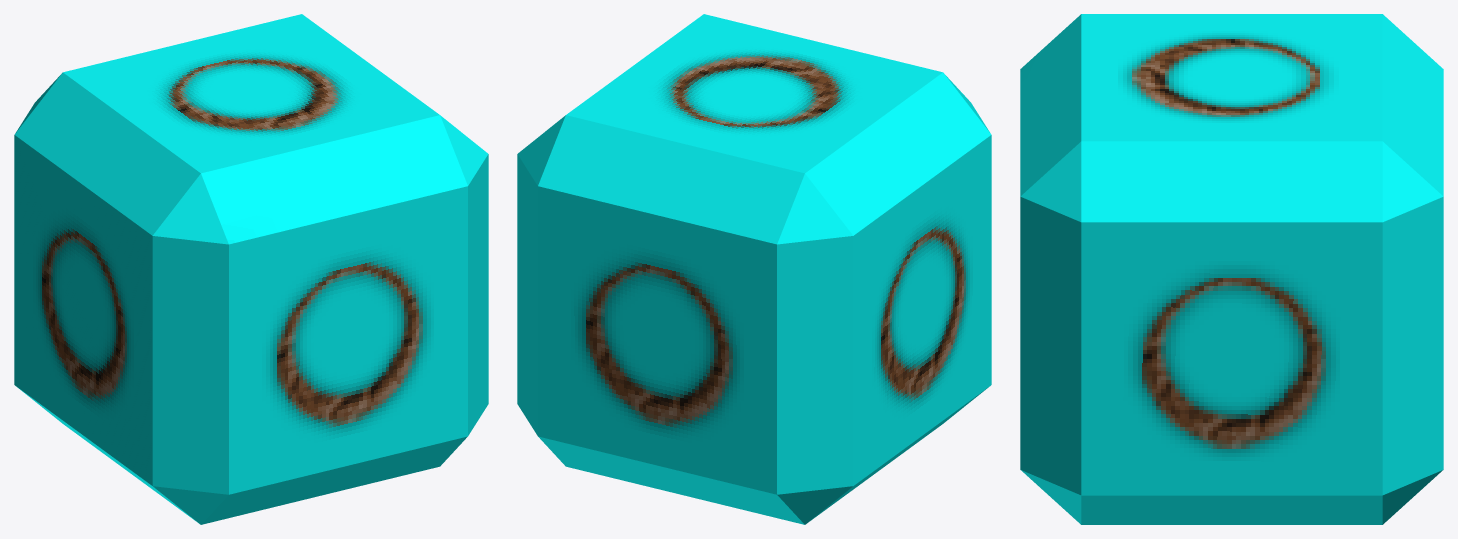
3 renders of one model, left to right at view 1: azimuth 30°, elevation 25°; view 2: azimuth 150°, elevation 25°; view 3: azimuth 270°, elevation 25°, orthographic. The views are drawn at different scales.
Parts seen in each view (by area): view 1: Symbol; view 2: Symbol; view 3: Symbol.
Part boxes in pixels (bbox=[...]): Symbol: bbox=[14, 14, 488, 524]; Symbol: bbox=[517, 14, 991, 524]; Symbol: bbox=[1020, 14, 1443, 524].
Size of the model in its own units: 200 by 200 by 200.
